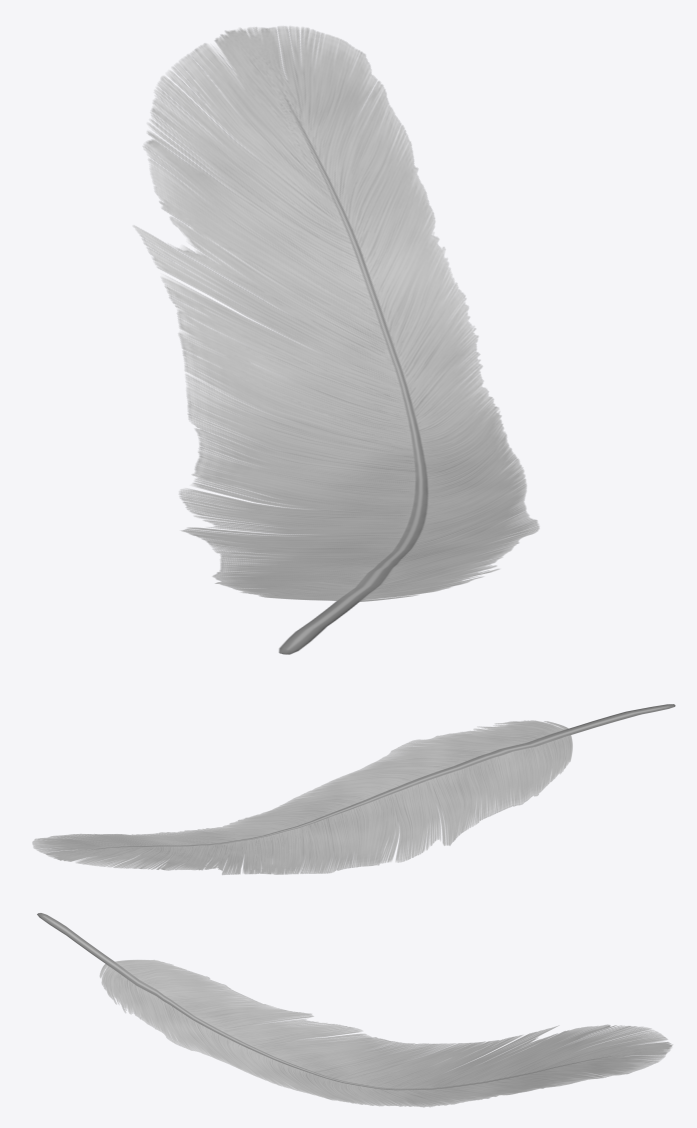
Rendered from feather.glb.
The picture shows the model from 3 angles, top to bottom: view 1: azimuth 30°, elevation 25°; view 2: azimuth 150°, elevation 25°; view 3: azimuth 270°, elevation 25°; orthographic projection. The views are drawn at different scales.
Visible parts, largest first — view 1: feather_2.001_feather_2_0; view 2: feather_2.001_feather_2_0; view 3: feather_2.001_feather_2_0.
Part boxes in pixels (left/top/right/bottom): feather_2.001_feather_2_0: left=133, top=26, right=539, bottom=654; feather_2.001_feather_2_0: left=32, top=704, right=675, bottom=874; feather_2.001_feather_2_0: left=37, top=913, right=672, bottom=1107.
Bounding box in the file's own units: 0.294 × 0.0613 × 0.4945.
Materials: 1 (1 with a texture image).
